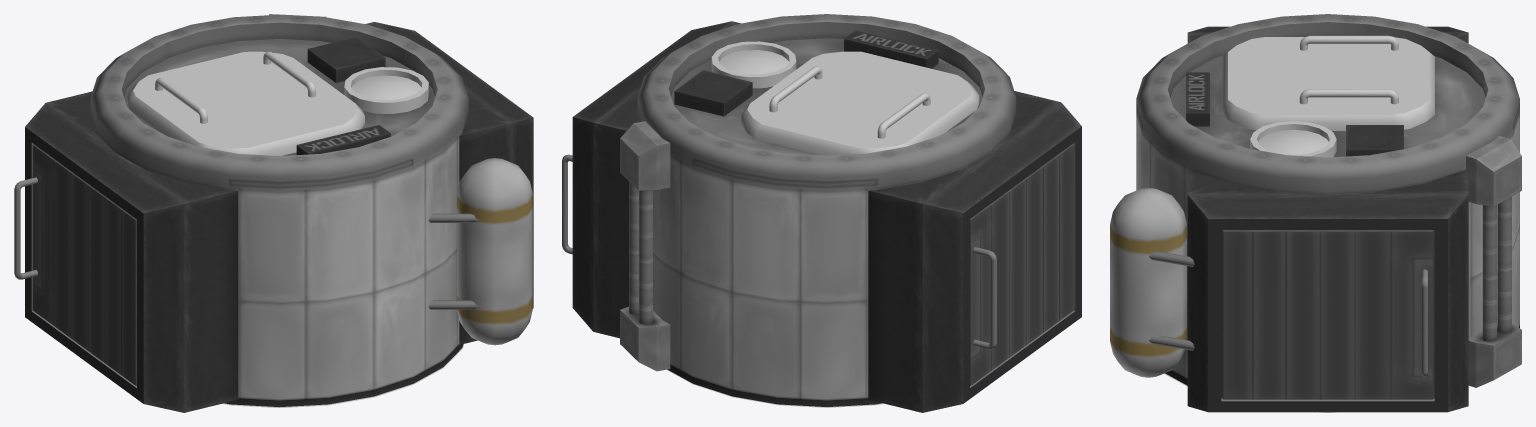
The model's file is MOL_Airlock.dae.
The picture shows the model from 3 angles, left to right: view 1: azimuth 30°, elevation 25°; view 2: azimuth 150°, elevation 25°; view 3: azimuth 270°, elevation 25°; orthographic projection.
Visible parts, largest first — view 1: MOL_Airlock2, Lander_Door7, MOL_Window25; view 2: MOL_Airlock2, Lander_Door7, MOL_Window25; view 3: MOL_Airlock2, Lander_Door7, MOL_Window25.
Part boxes in pixels (<box>): MOL_Airlock2: <box>14,14,533,412</box>; Lander_Door7: <box>126,51,364,155</box>; MOL_Window25: <box>344,67,428,113</box>; MOL_Airlock2: <box>562,14,1081,412</box>; Lander_Door7: <box>741,51,979,155</box>; MOL_Window25: <box>711,41,796,88</box>; MOL_Airlock2: <box>1110,14,1521,412</box>; Lander_Door7: <box>1222,35,1434,130</box>; MOL_Window25: <box>1250,121,1336,157</box>.
Bounding box in the file's own units: 1.66 × 0.9066 × 1.34.
